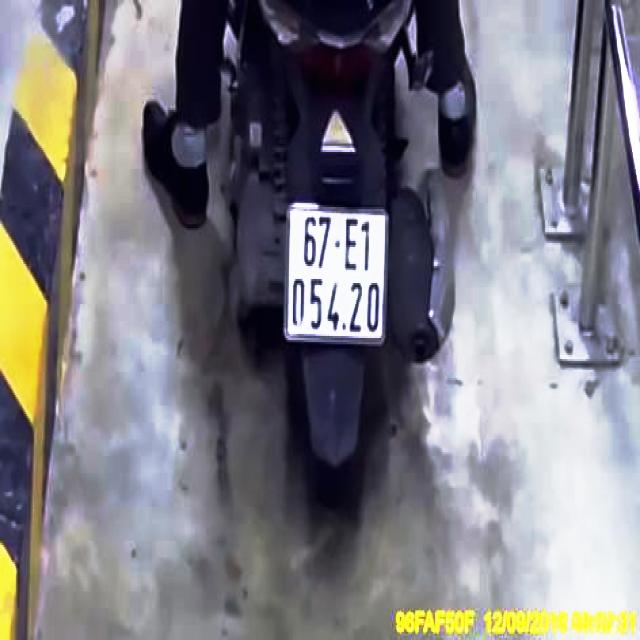license_plate: (286, 206, 387, 342)
